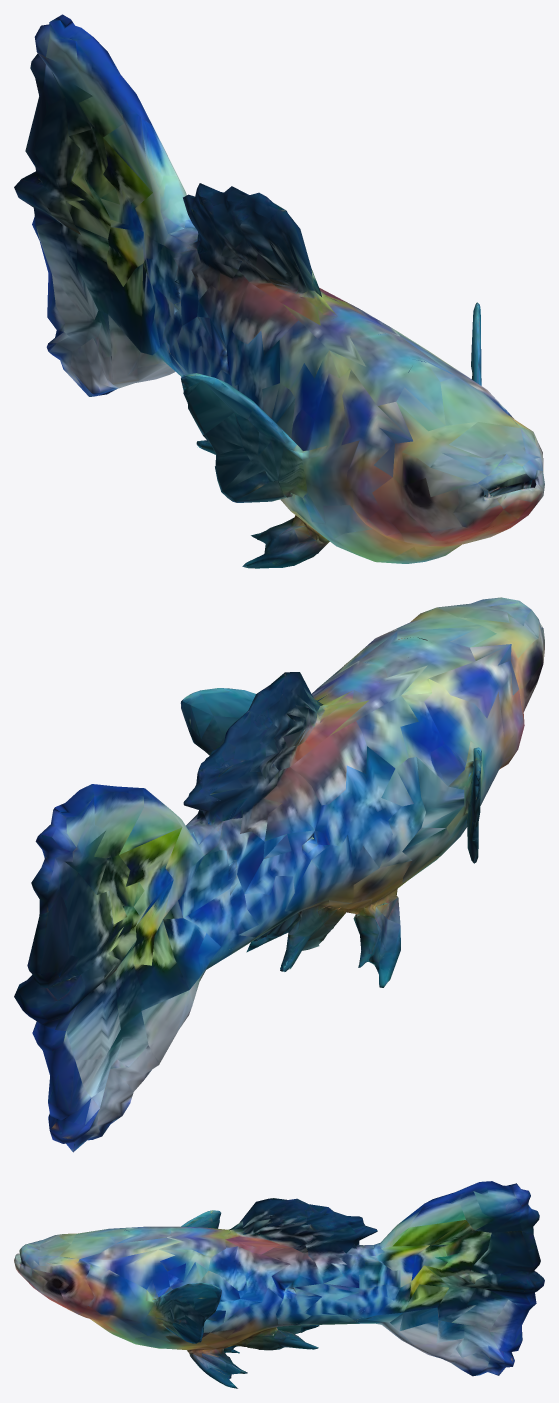
Rendered from strain-blue_leopard_fan.lo.glb.
3 views of the same model, one above another, from view 1: azimuth 30°, elevation 25°; view 2: azimuth 150°, elevation 25°; view 3: azimuth 270°, elevation 25° (orthographic). The views are drawn at different scales.
Visible parts, largest first — view 1: Mesh_0.001; view 2: Mesh_0.001; view 3: Mesh_0.001.
Boxes of the visible parts, x1,y1,x2,y2 form: Mesh_0.001: (14, 14, 544, 568); Mesh_0.001: (14, 597, 544, 1152); Mesh_0.001: (14, 1181, 544, 1388).
Size of the model in its own units: 0.012 by 0.0137 by 0.0338.
Materials: 2 (2 with a texture image).
